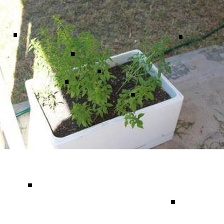foam_box: (19, 46, 188, 149)
